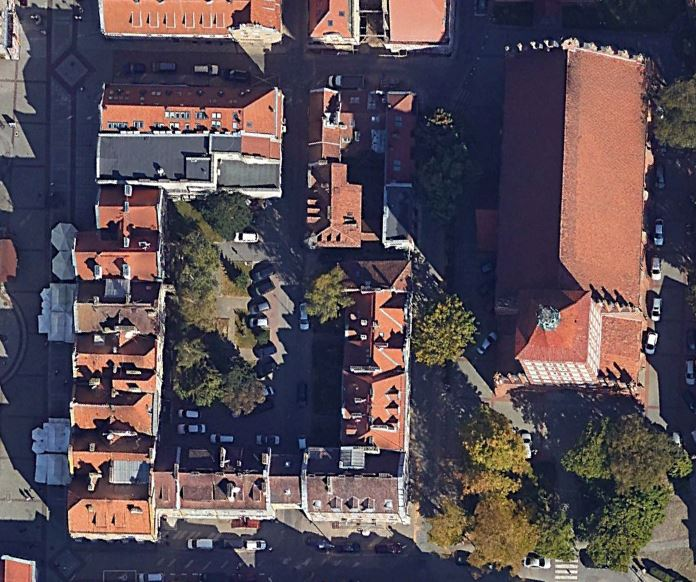block of flats: (59, 66, 422, 550), (93, 1, 476, 62)
church: (483, 34, 656, 418)
